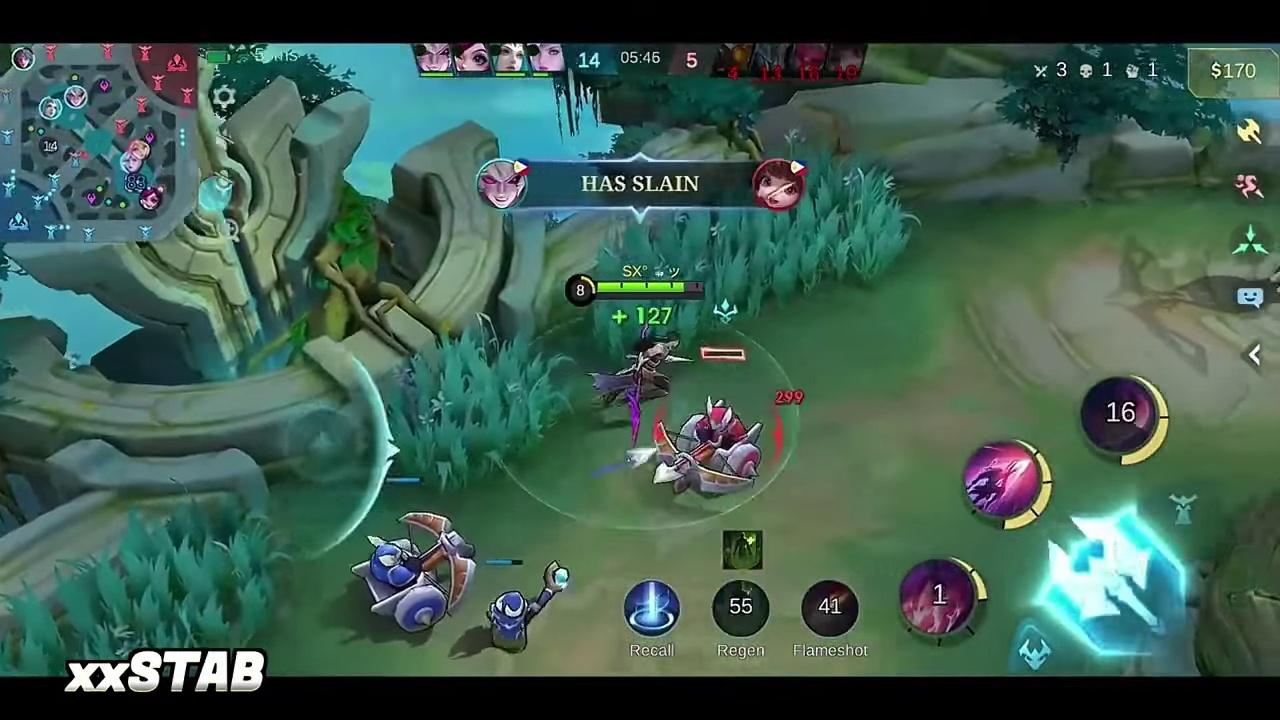Adc_Aliado: (116, 150, 141, 172)
Adc_Enemigo: (125, 137, 151, 161)
Arbusto: (617, 155, 926, 332), (6, 503, 280, 674), (377, 323, 558, 497)
Arlott: (592, 316, 686, 436)
Esbirro_Aliado: (354, 511, 474, 629), (482, 567, 572, 655)
Esbirro_Enemigo: (628, 397, 767, 492)
Exp_Aliado: (14, 45, 38, 73)
HP_Heroe_Principal: (595, 282, 702, 292)
Jungla_Aliado: (64, 85, 90, 111)
Mid_Aliado: (37, 94, 66, 121)
Minimapa: (0, 48, 195, 245)
Roamer_Aliado: (137, 185, 164, 213)
Skill2: (961, 440, 1049, 528)
